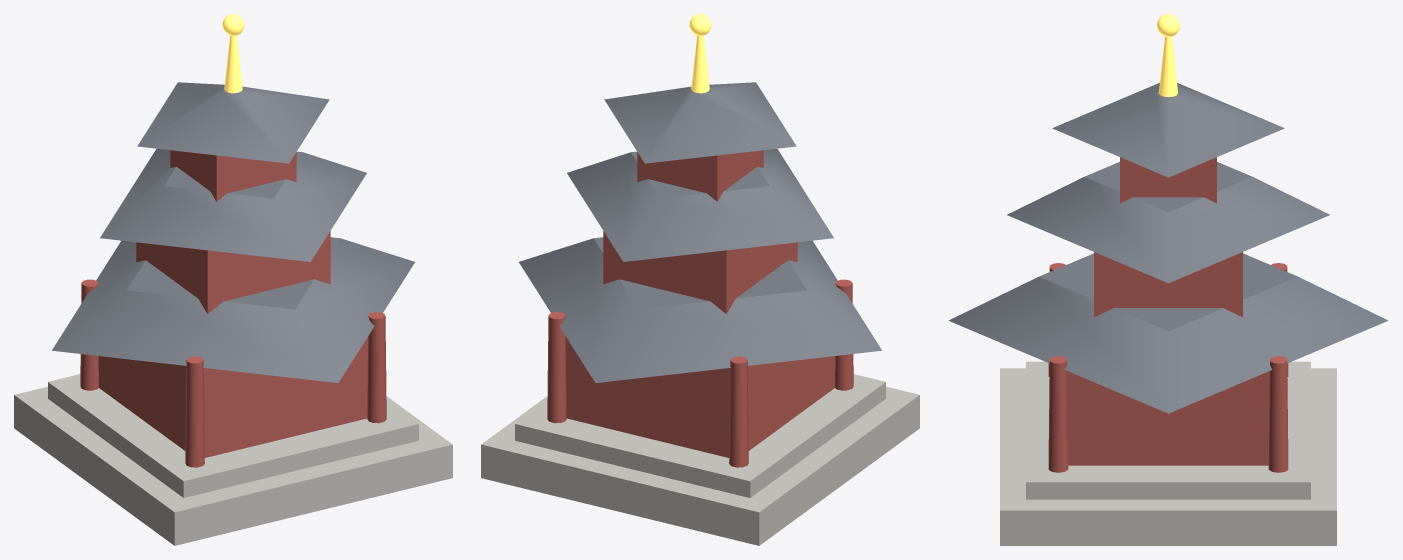
Rendered from temple_pagoda.glb.
3 renders of one model, left to right at view 1: azimuth 30°, elevation 25°; view 2: azimuth 150°, elevation 25°; view 3: azimuth 270°, elevation 25°, orthographic. The views are drawn at different scales.
Parts seen in each view (by area): view 1: CurvedTiledRoofs, StonePlinth, LacquerPillars, GoldenSpire; view 2: CurvedTiledRoofs, StonePlinth, LacquerPillars, GoldenSpire; view 3: CurvedTiledRoofs, StonePlinth, LacquerPillars, GoldenSpire.
Boxes of the visible parts, box(x1,y1,x2,y2) form: CurvedTiledRoofs: box(52, 82, 414, 382); StonePlinth: box(14, 374, 452, 545); LacquerPillars: box(80, 150, 386, 467); GoldenSpire: box(222, 14, 244, 93); CurvedTiledRoofs: box(519, 82, 881, 382); StonePlinth: box(481, 374, 919, 545); LacquerPillars: box(547, 150, 853, 467); GoldenSpire: box(689, 14, 711, 93); CurvedTiledRoofs: box(948, 83, 1388, 413); StonePlinth: box(1000, 361, 1336, 545); LacquerPillars: box(1048, 157, 1288, 472); GoldenSpire: box(1157, 14, 1179, 97).
Bounding box in the file's own units: 6.8 × 7.83 × 6.8.
